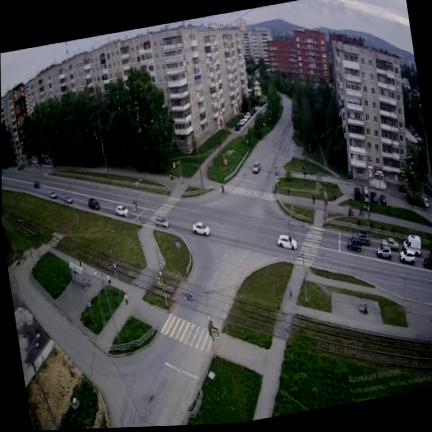bench: (359, 302, 368, 314)
busStop: (69, 261, 89, 287)
busStopSign: (111, 250, 120, 290), (88, 302, 94, 321)
car: (278, 234, 297, 249), (193, 222, 211, 235), (353, 232, 370, 245), (400, 250, 415, 264), (377, 246, 392, 259), (383, 238, 399, 250), (348, 238, 362, 251), (251, 159, 261, 174), (156, 217, 169, 228), (117, 206, 129, 217), (88, 199, 100, 210), (354, 187, 361, 200), (47, 190, 56, 200), (424, 257, 431, 268), (371, 191, 378, 202), (64, 196, 73, 204), (381, 195, 386, 205), (429, 246, 432, 262), (34, 181, 40, 188)
cyclist: (349, 207, 354, 216), (359, 210, 363, 216)
garbageBin: (430, 313, 432, 323)
human: (124, 293, 128, 304), (289, 286, 292, 297), (107, 274, 110, 284), (364, 205, 367, 212), (287, 188, 290, 195), (170, 173, 173, 179), (313, 195, 315, 203), (80, 260, 81, 266), (222, 186, 223, 192)
lightPole: (100, 272, 120, 342), (94, 134, 109, 177), (193, 134, 203, 188), (74, 205, 79, 227)
pedestianCross: (161, 314, 212, 352), (298, 227, 324, 266), (148, 197, 179, 224), (224, 185, 275, 201)
pedestrianSign: (156, 263, 167, 306)
sign: (176, 242, 181, 252)
trafficLight: (206, 314, 219, 352), (273, 141, 280, 200), (131, 179, 139, 224), (223, 149, 235, 177), (289, 208, 294, 262), (173, 160, 182, 182), (324, 190, 328, 222)
truck: (403, 234, 422, 256), (363, 184, 369, 202)
